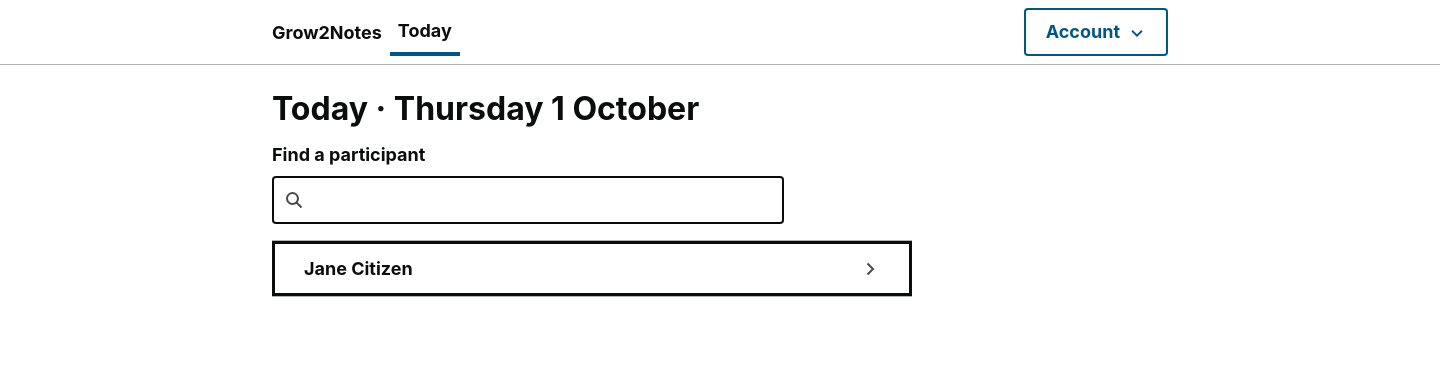
Test: Today, opening a row › says who started the note, as the server says, at a row with no line, as Alex P. began it since
Click the link "Jane Citizen" at [358, 268], box [304,258,413,279]
Wait 2 ms
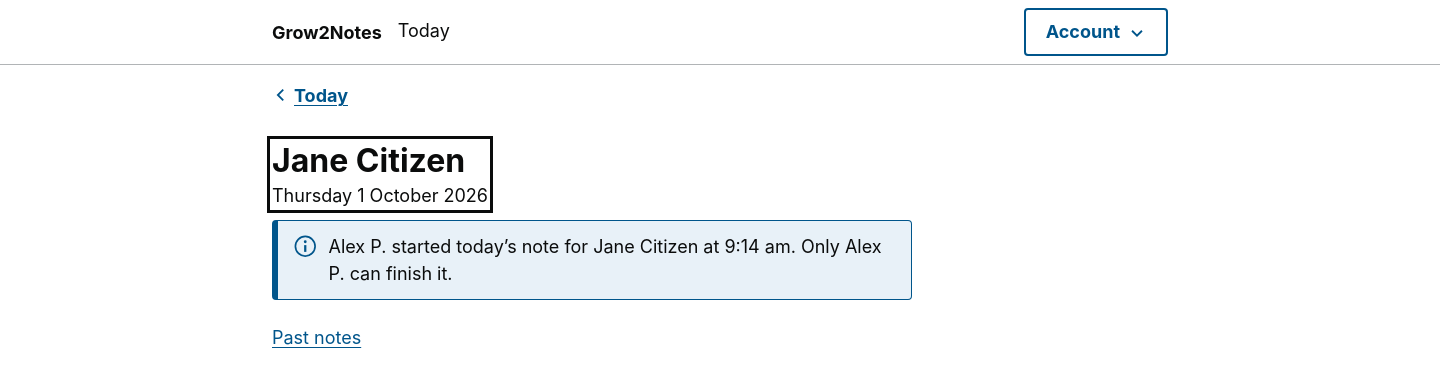
Now the field is gone
